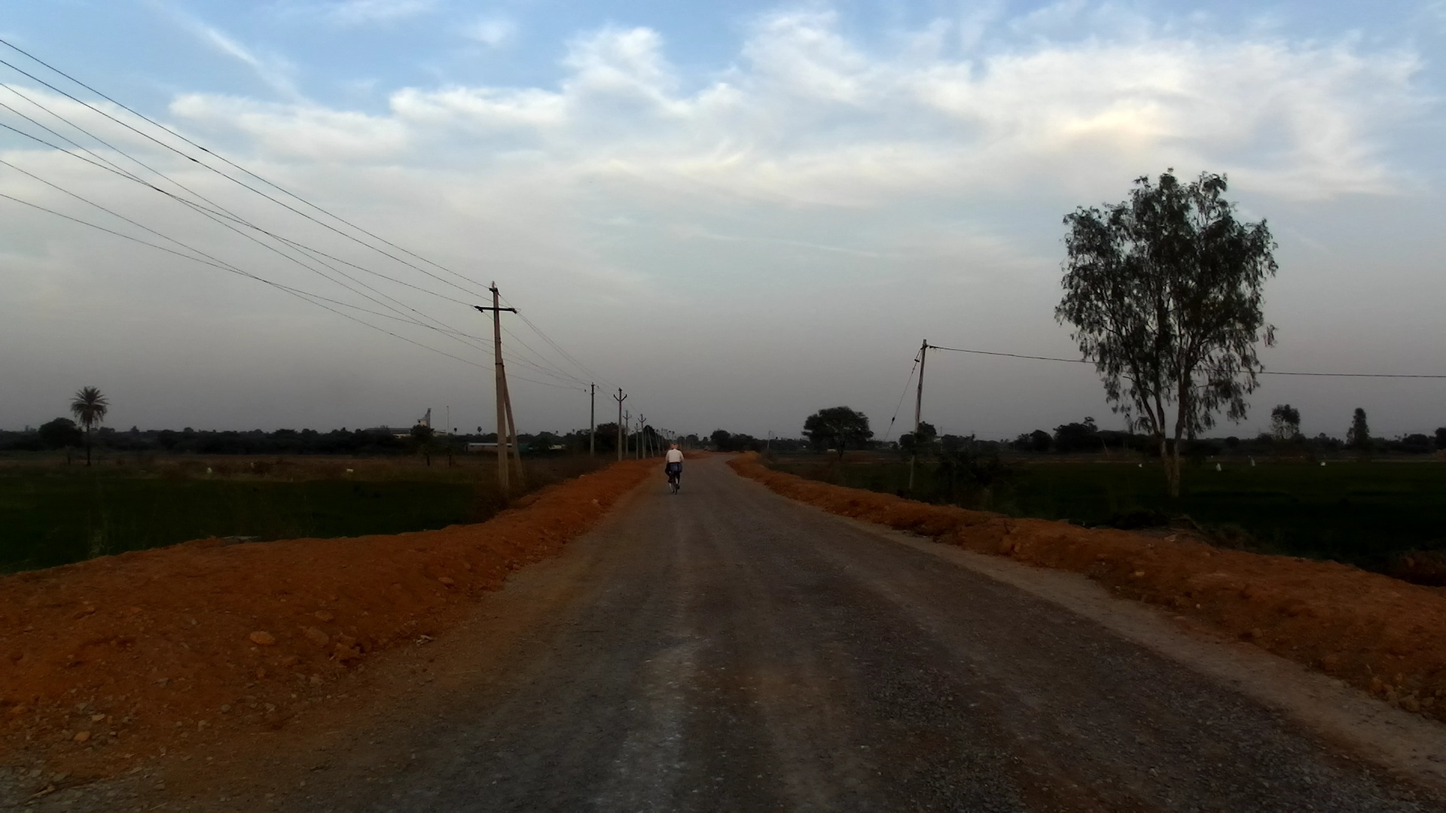bicycle: (665, 467, 681, 500)
rider: (663, 441, 685, 491)
